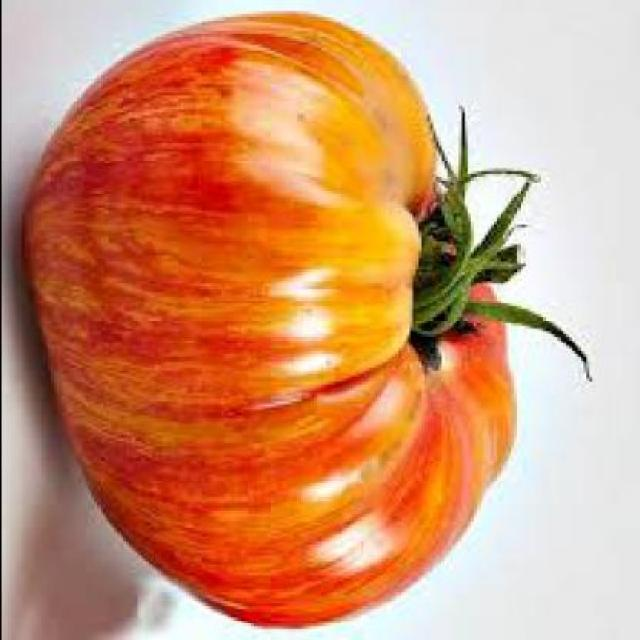BIODEGRADABLE: (15, 14, 593, 632)
